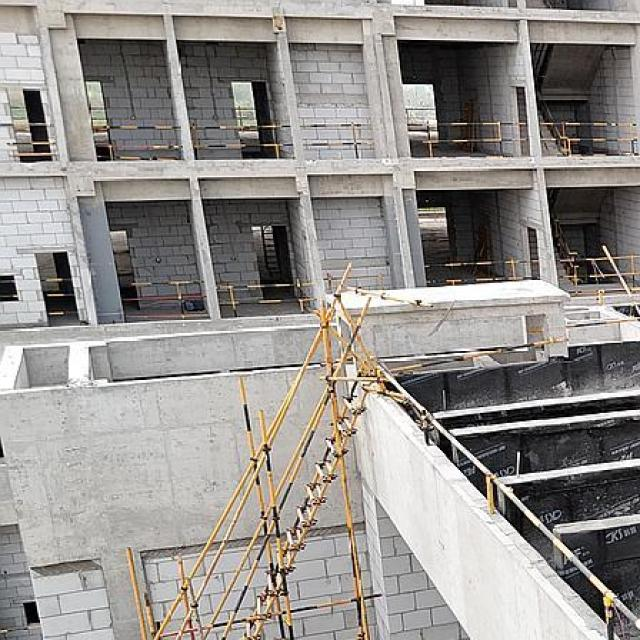edge_guardrail: (377, 363, 640, 640), (387, 334, 569, 373), (406, 123, 526, 158), (189, 125, 294, 159), (216, 282, 318, 317), (540, 122, 640, 157), (122, 280, 209, 320), (91, 125, 183, 162), (557, 256, 640, 297), (425, 258, 539, 286), (299, 124, 361, 159), (527, 316, 640, 334), (0, 123, 57, 157), (39, 277, 78, 316), (0, 279, 19, 298)
